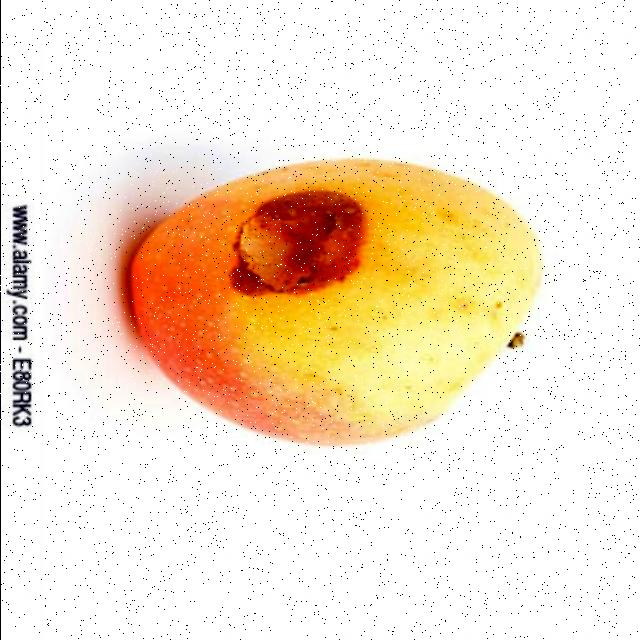ROT: (125, 152, 573, 452)
